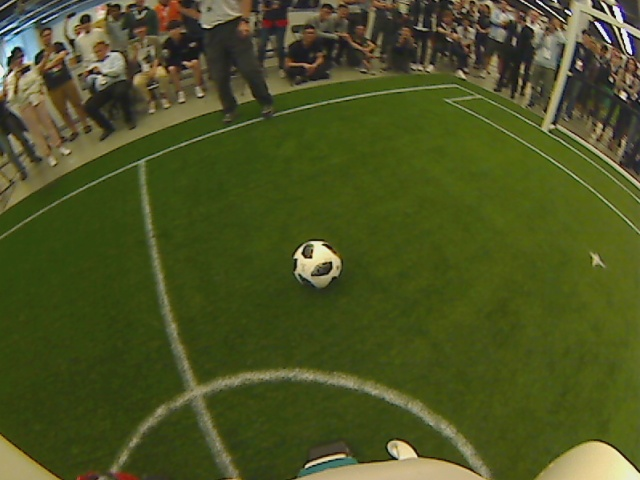ball: (288, 237, 344, 293)
goalpost: (534, 106, 563, 137)
